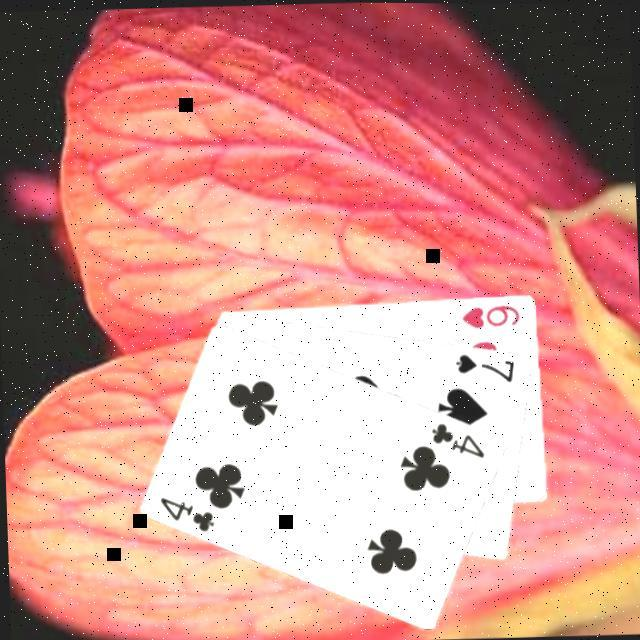4C: (158, 489, 220, 533), (430, 414, 489, 458)
6H: (460, 298, 526, 328)
7S: (454, 345, 520, 383)
